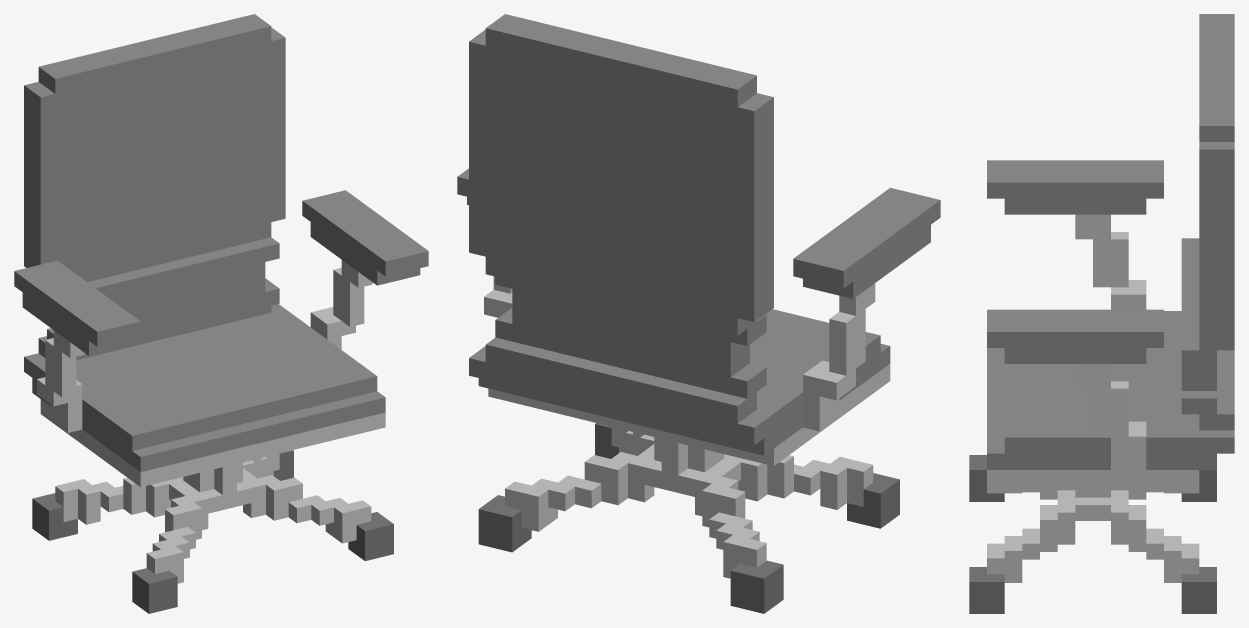
File: Chair2-1.fbx
3 renders of one model, left to right at view 1: azimuth 30°, elevation 25°; view 2: azimuth 150°, elevation 25°; view 3: azimuth 270°, elevation 25°, orthographic. The views are drawn at different scales.
Visible parts, largest first — view 1: Chair2-1; view 2: Chair2-1; view 3: Chair2-1.
Part boxes in pixels (left/top/right/bottom): Chair2-1: left=14, top=14, right=428, bottom=613; Chair2-1: left=457, top=14, right=940, bottom=613; Chair2-1: left=969, top=14, right=1234, bottom=613.
Bounding box in the file's own units: 2.3 × 3 × 1.5.
